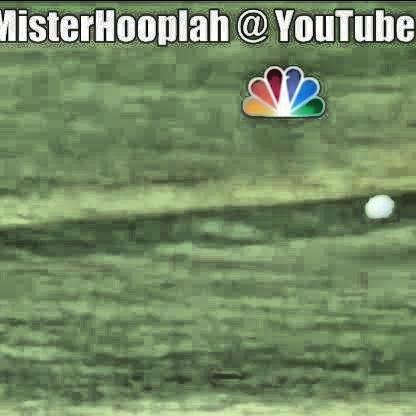golfball: (361, 195, 394, 220)
